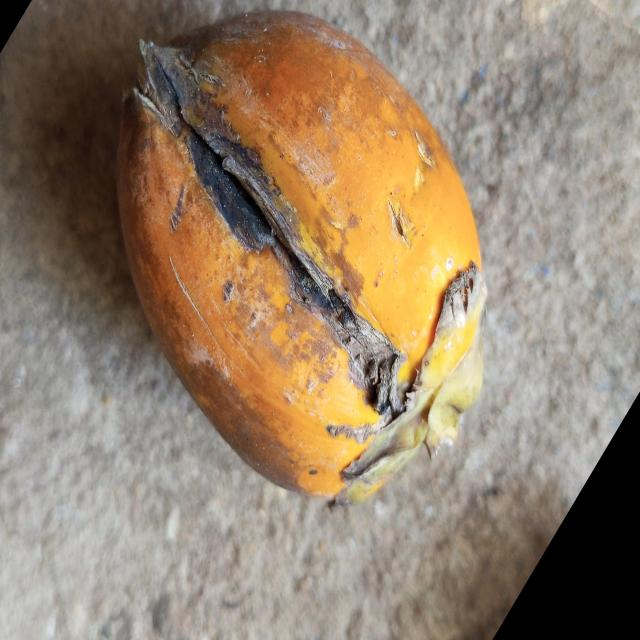damaged: (115, 11, 488, 506)
